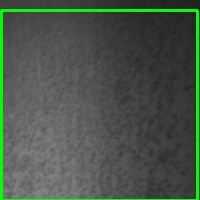pitted_surface: (1, 10, 197, 200)
